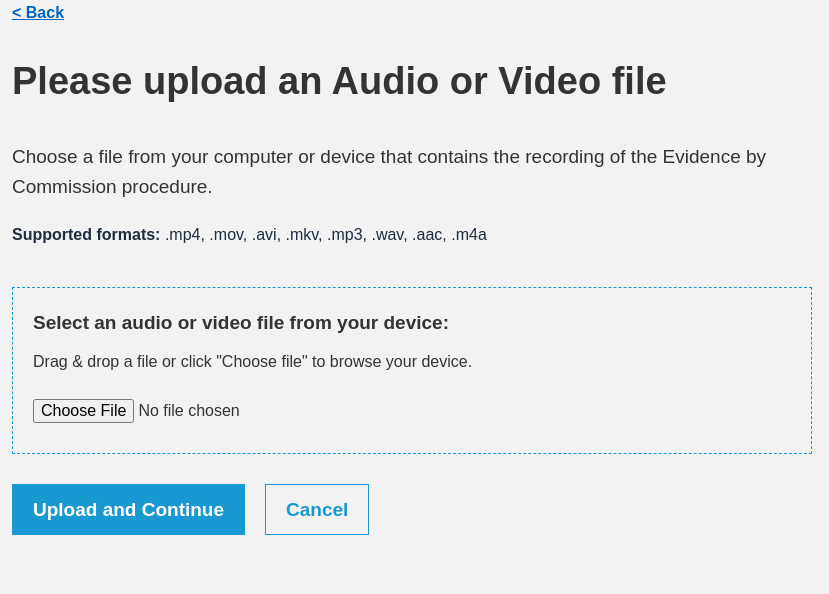
Test: UploadPage Component › displays an error message when submitting without a file
The image size is (829, 594).
Click the button with aria-label "Upload selected file": (128, 510) [12, 484, 245, 535]
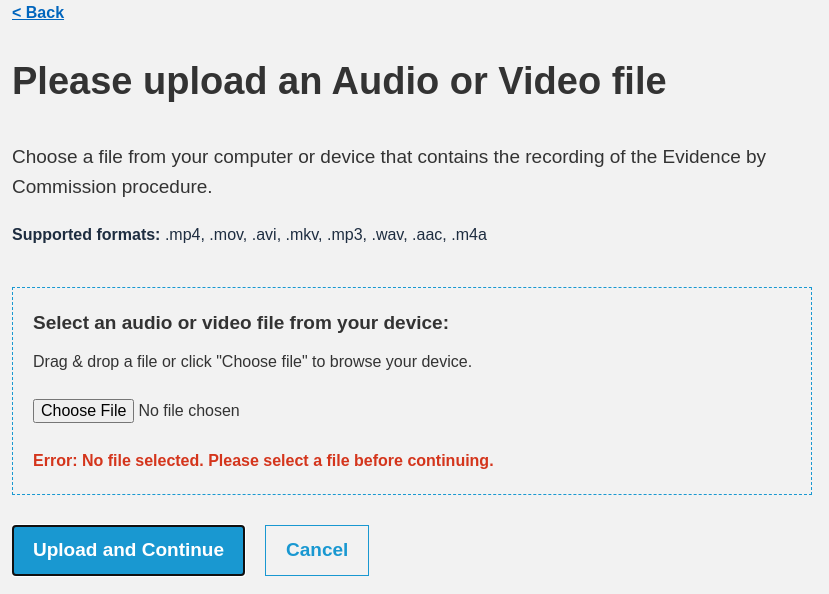
Expected: the text "Error: No file selected. Please select a file before continuing." is shown, [33, 452, 494, 469]
